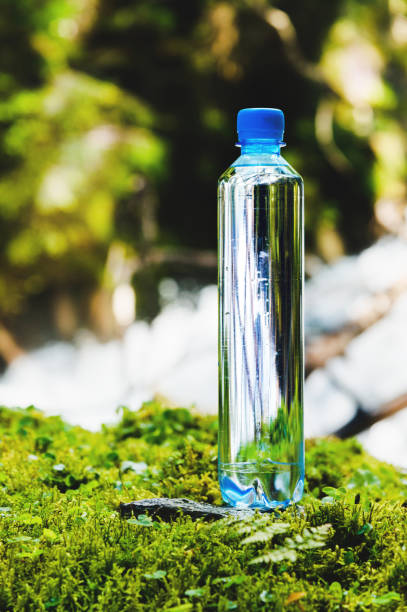bottle: (190, 93, 352, 556)
